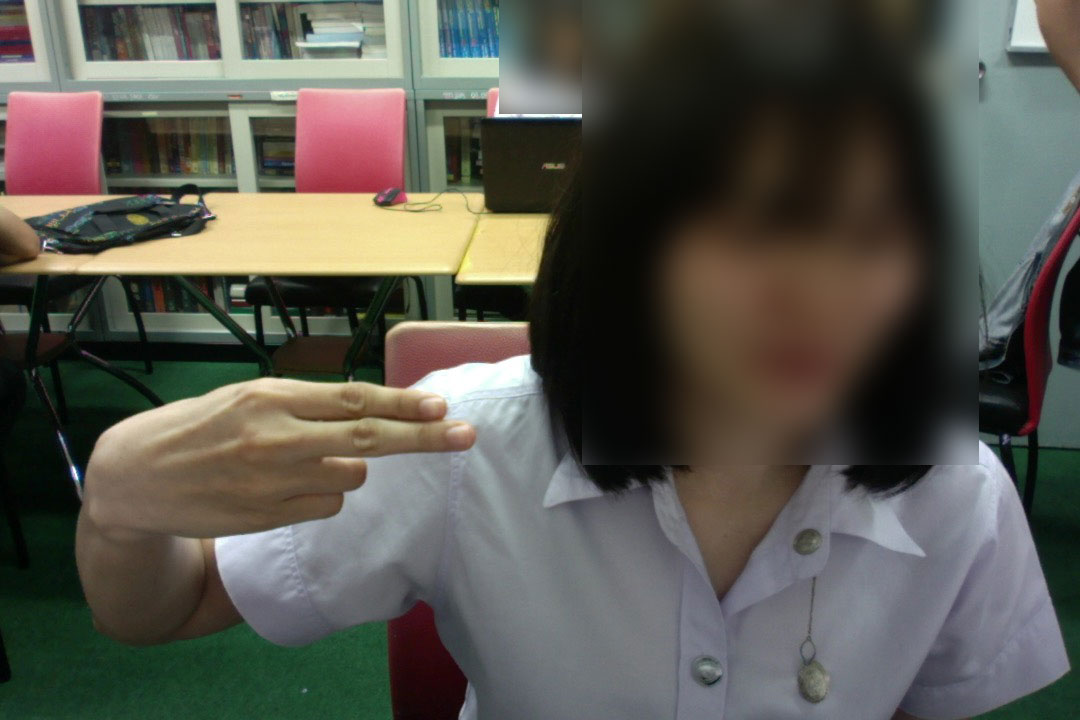hor: (59, 370, 479, 542)
